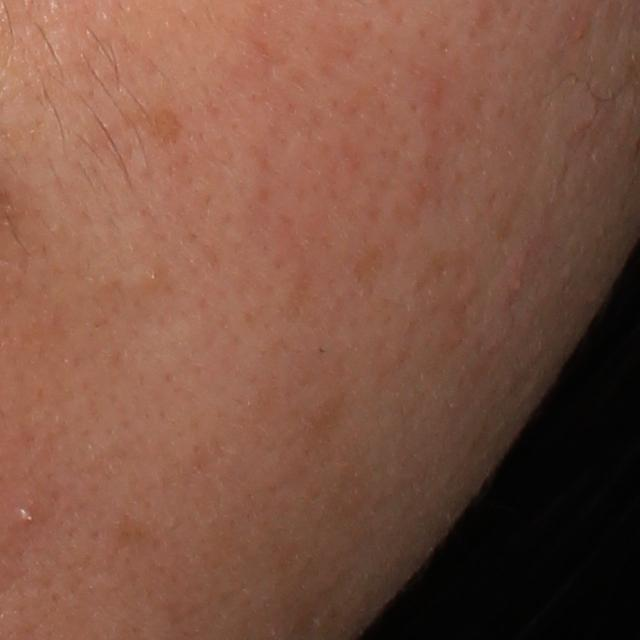pustule: (14, 496, 37, 526)
